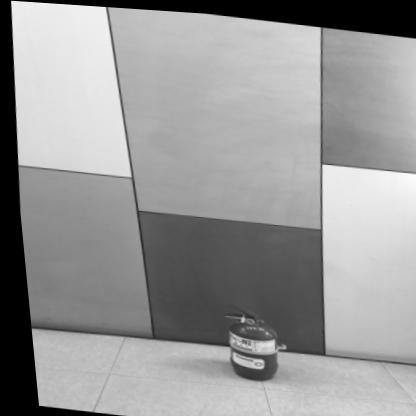FE: (216, 299, 276, 380)
